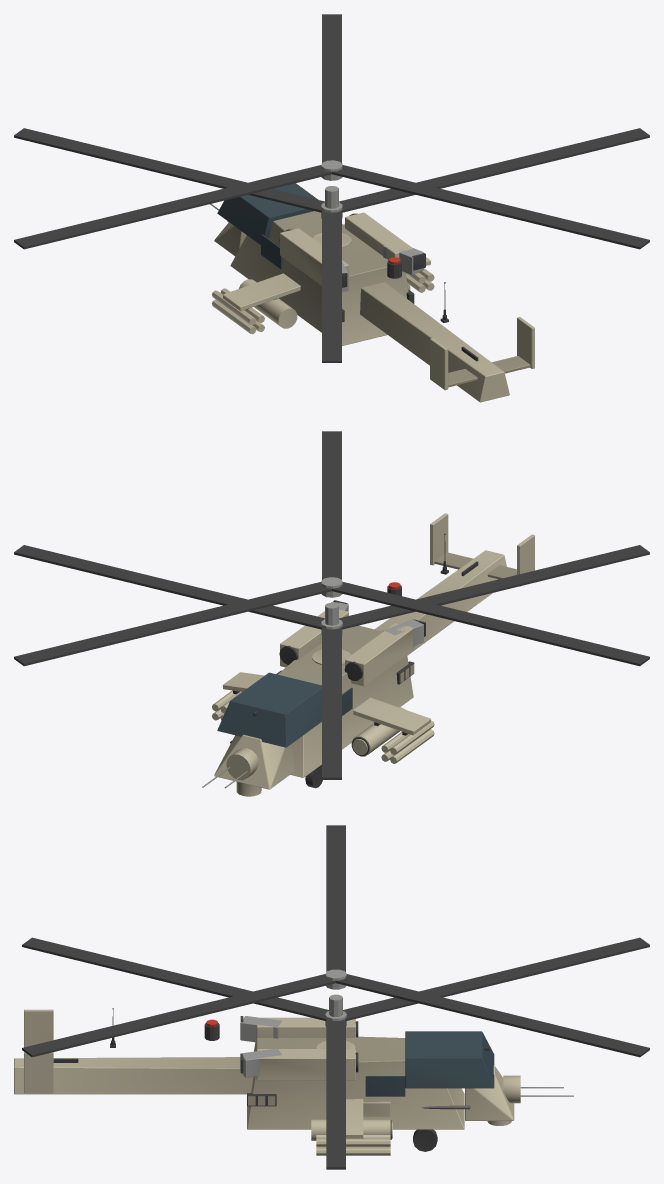
Rendered from rus_heli_ka52.glb.
3 renders of one model, top to bottom at view 1: azimuth 30°, elevation 25°; view 2: azimuth 150°, elevation 25°; view 3: azimuth 270°, elevation 25°, orthographic.
Visible parts, largest first — view 1: body, trotor, rotor; view 2: body, trotor, rotor; view 3: body, trotor, rotor.
Boxes of the visible parts, x1=… form: body: x1=210, y1=183, x2=534, y2=402; trotor: x1=14, y1=14, x2=649, y2=249; rotor: x1=14, y1=128, x2=649, y2=362; body: x1=202, y1=513, x2=534, y2=796; trotor: x1=14, y1=431, x2=649, y2=666; rotor: x1=14, y1=545, x2=649, y2=779; body: x1=14, y1=994, x2=573, y2=1155; trotor: x1=22, y1=825, x2=649, y2=1057; rotor: x1=22, y1=937, x2=649, y2=1169.
Size of the model in its own units: 14.4 by 3.62 by 12.84.
